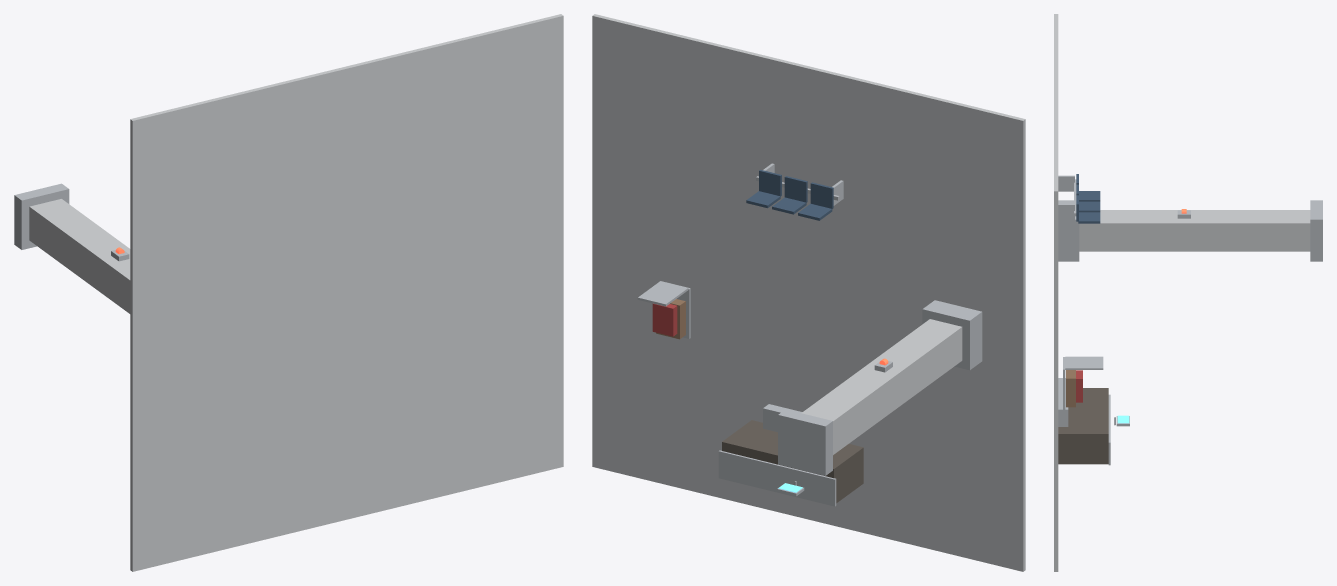
File: airport_terminal_section.glb
3 views of the same model, side by side, from view 1: azimuth 30°, elevation 25°; view 2: azimuth 150°, elevation 25°; view 3: azimuth 270°, elevation 25° (orthographic). The views are drawn at different scales.
Visible parts, largest first — view 1: Airport_Terminal_Section; view 2: Airport_Terminal_Section; view 3: Airport_Terminal_Section.
Part boxes in pixels (left/top/right/bottom): Airport_Terminal_Section: left=14, top=14, right=563, bottom=571; Airport_Terminal_Section: left=592, top=14, right=1025, bottom=571; Airport_Terminal_Section: left=1054, top=14, right=1322, bottom=571.
Size of the model in its own units: 10 by 10 by 6.4.
